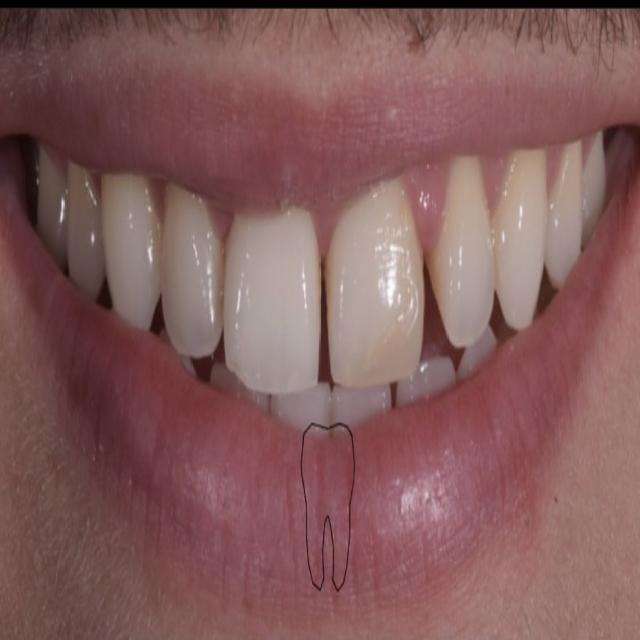tooth: (224, 206, 324, 394), (323, 219, 424, 377), (162, 190, 224, 358), (430, 184, 494, 334), (100, 183, 163, 322), (488, 165, 542, 316), (59, 163, 97, 291), (550, 156, 581, 267)
